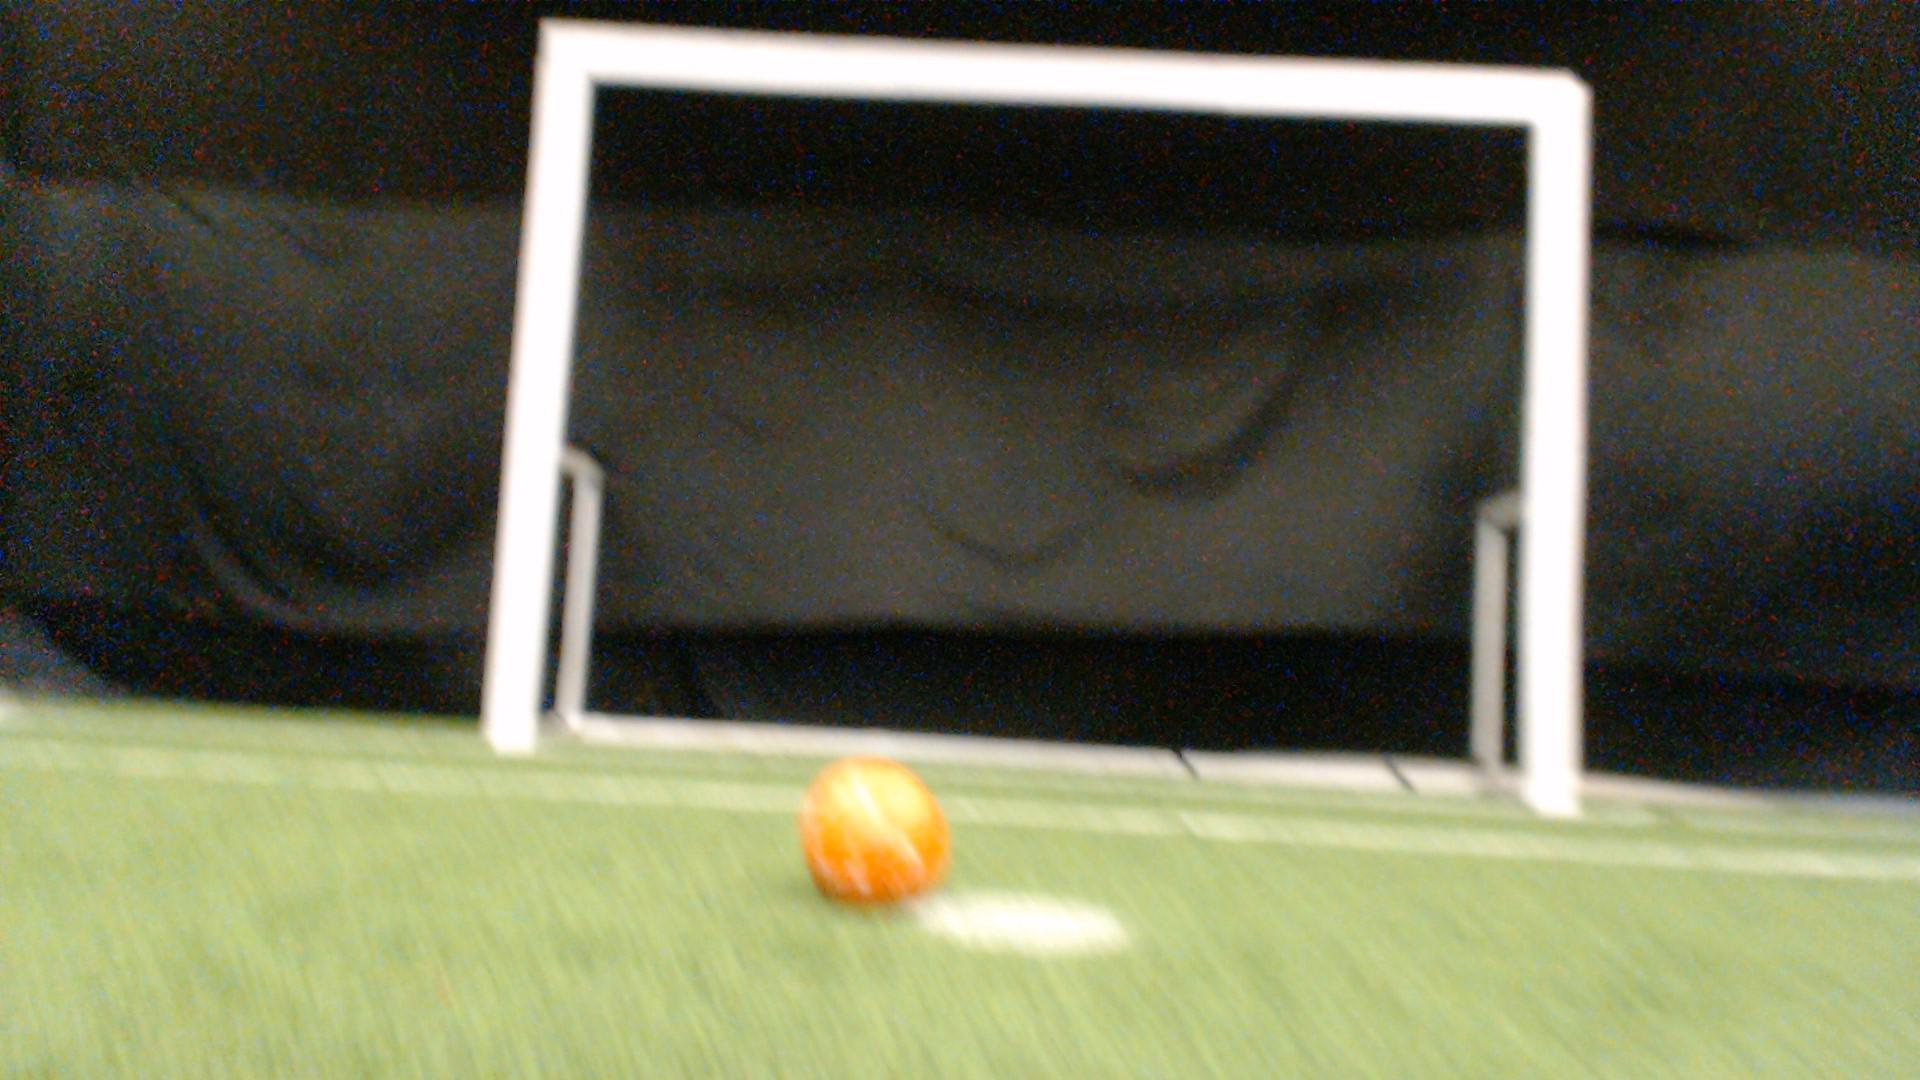bola: (787, 742, 960, 915)
